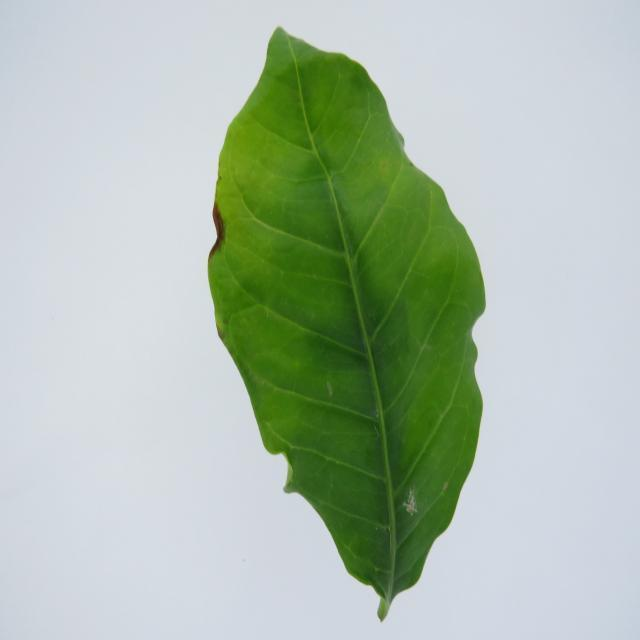DeficienciaNutricional-Calcio: (209, 28, 485, 620)
